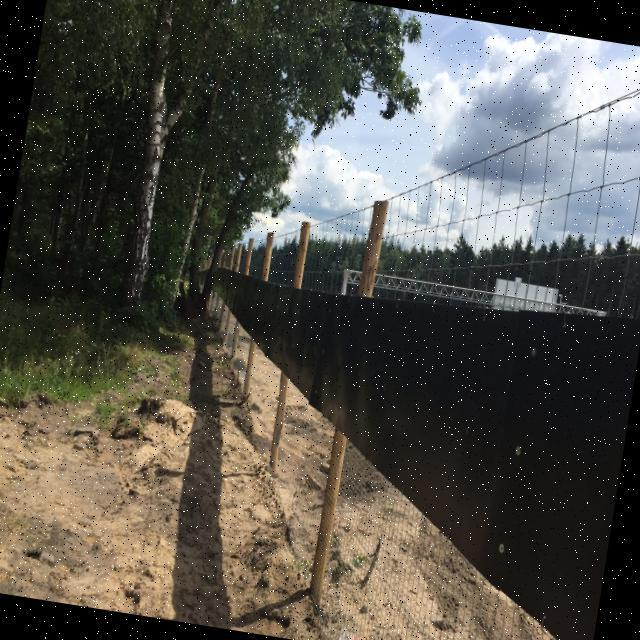fence line: (254, 31, 639, 639), (163, 158, 418, 457)
